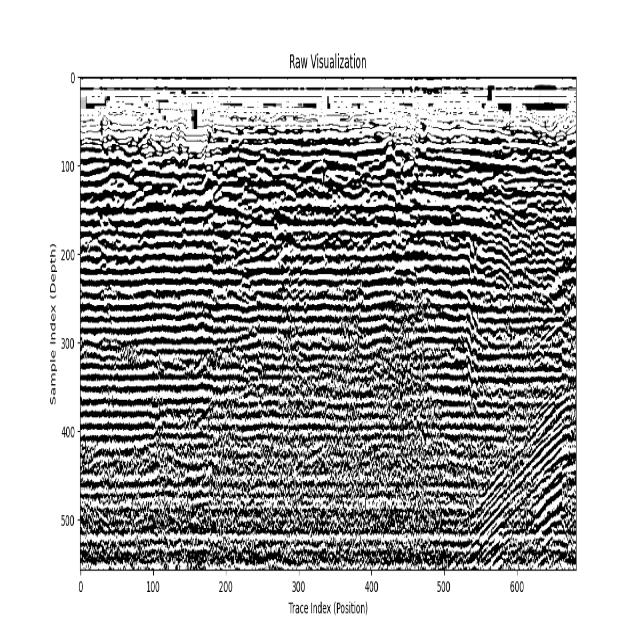anomaly: (464, 376, 574, 567)
